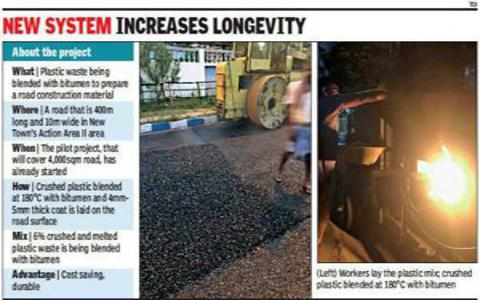Proper road: (158, 131, 232, 147)
